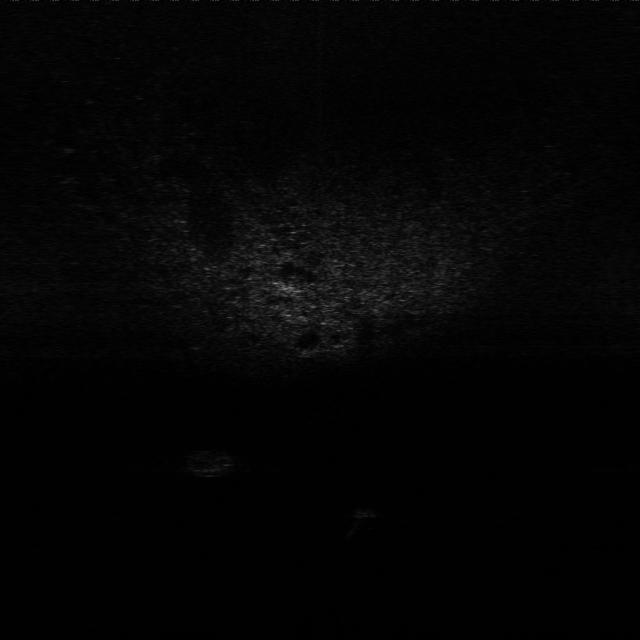circle cage: (180, 445, 240, 479)
cylinder: (352, 504, 377, 552)
